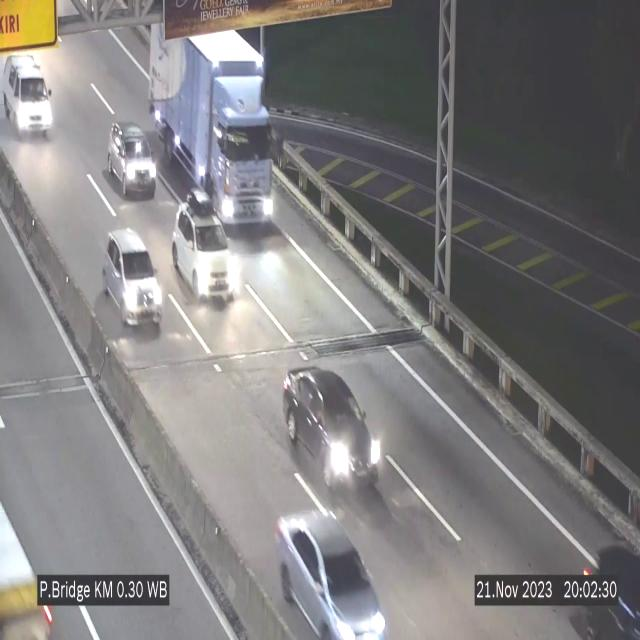Car: (277, 512, 387, 638), (281, 366, 376, 497), (173, 189, 244, 311), (102, 229, 162, 327), (4, 56, 52, 137), (108, 123, 156, 197)
Truck: (148, 24, 272, 227)
